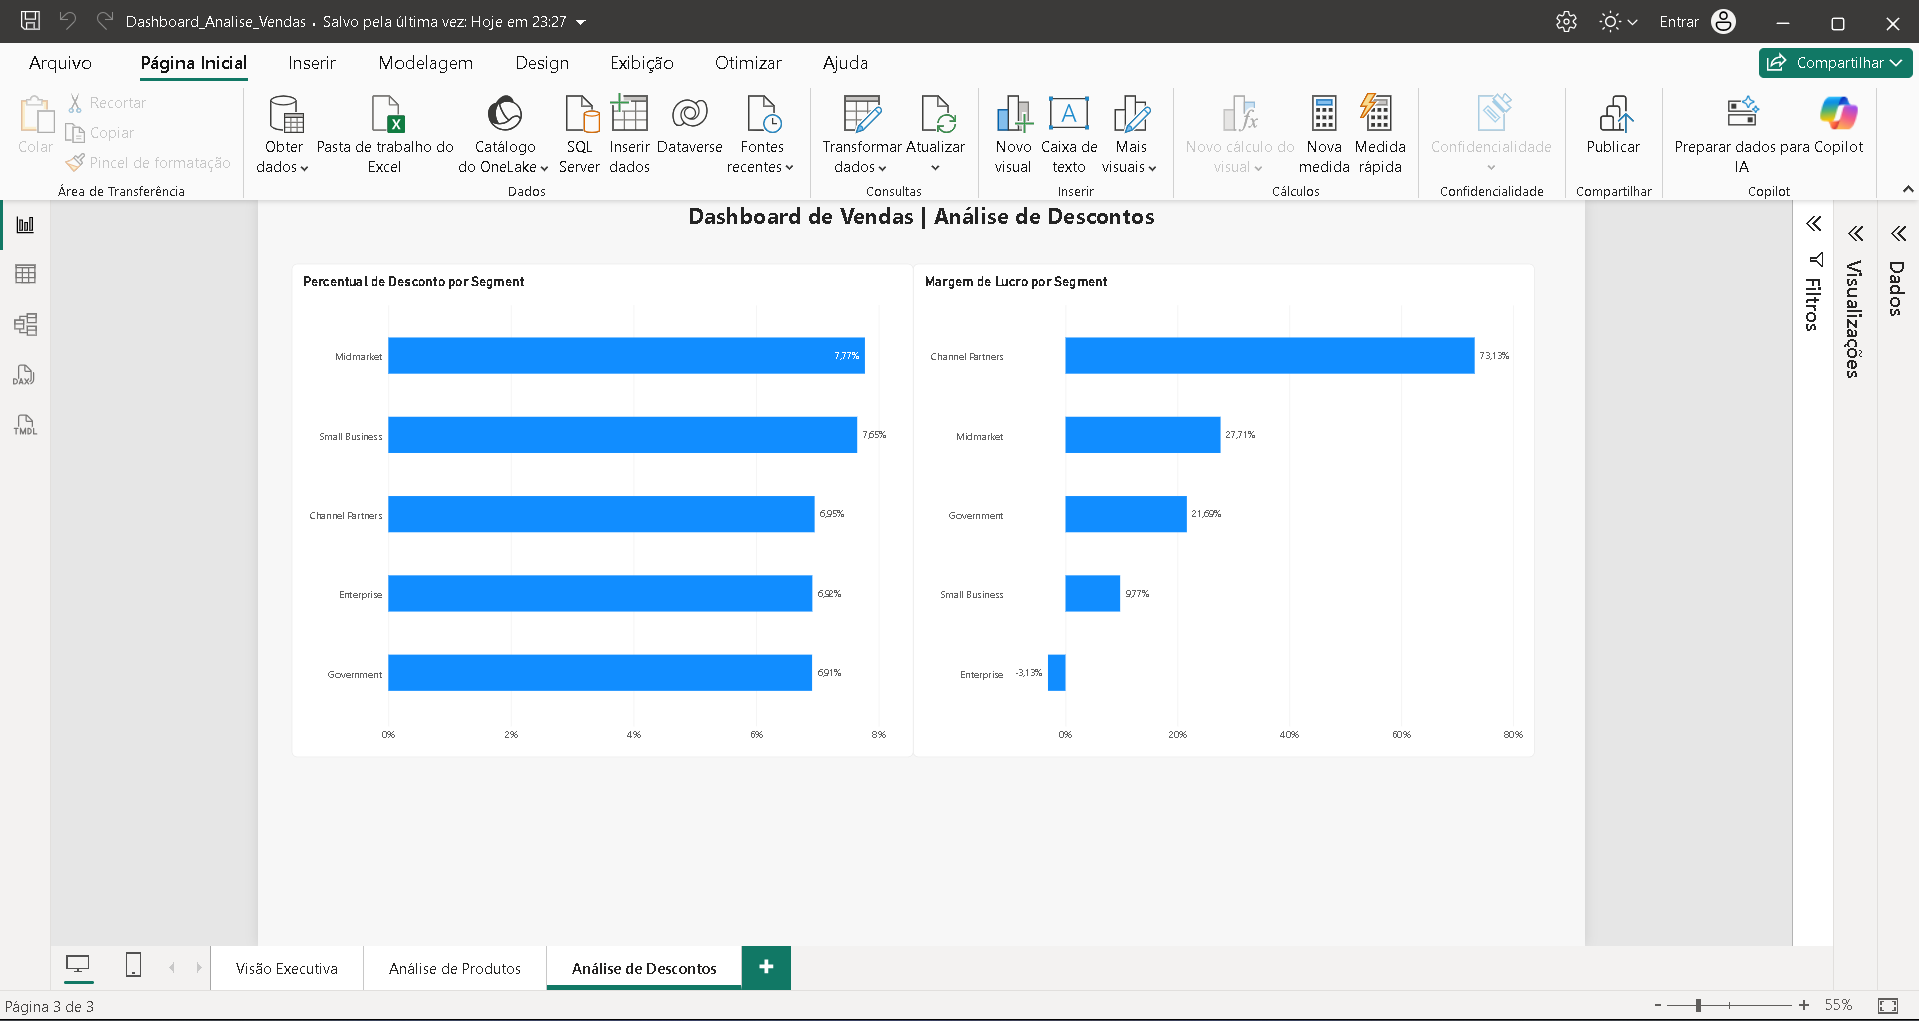

The page's visual inventory and layout, read from the dashboard file:
{"tool":"powerbi","page":{"name":"Análise de Descontos","canvas":[1920,1080],"ordinal":2},"visuals":[{"type":"clusteredBarChart","fields":{"Category":["F_Vendas.Segment"],"Y":["F_Vendas.Percentual de Desconto"]},"box":[48,92,900,714],"z":0},{"type":"clusteredBarChart","fields":{"Category":["F_Vendas.Segment"],"Y":["F_Vendas.Margem de Lucro"]},"box":[948,92,900,714],"z":1},{"type":"textbox","box":[0,0,1920,184],"z":2}]}

Visuals, with their boxes on the page's 1920x1080 design canvas (x1, y1, x2, y2). These are canvas units, not pixel positions in the 1919x1021 screenshot, which may show the page scaled, cropped or inside an application window:
clusteredBarChart - F_Vendas.Segment x F_Vendas.Percentual de Desconto: rect(48, 92, 948, 806)
clusteredBarChart - F_Vendas.Segment x F_Vendas.Margem de Lucro: rect(948, 92, 1848, 806)
textbox: rect(0, 0, 1920, 184)
